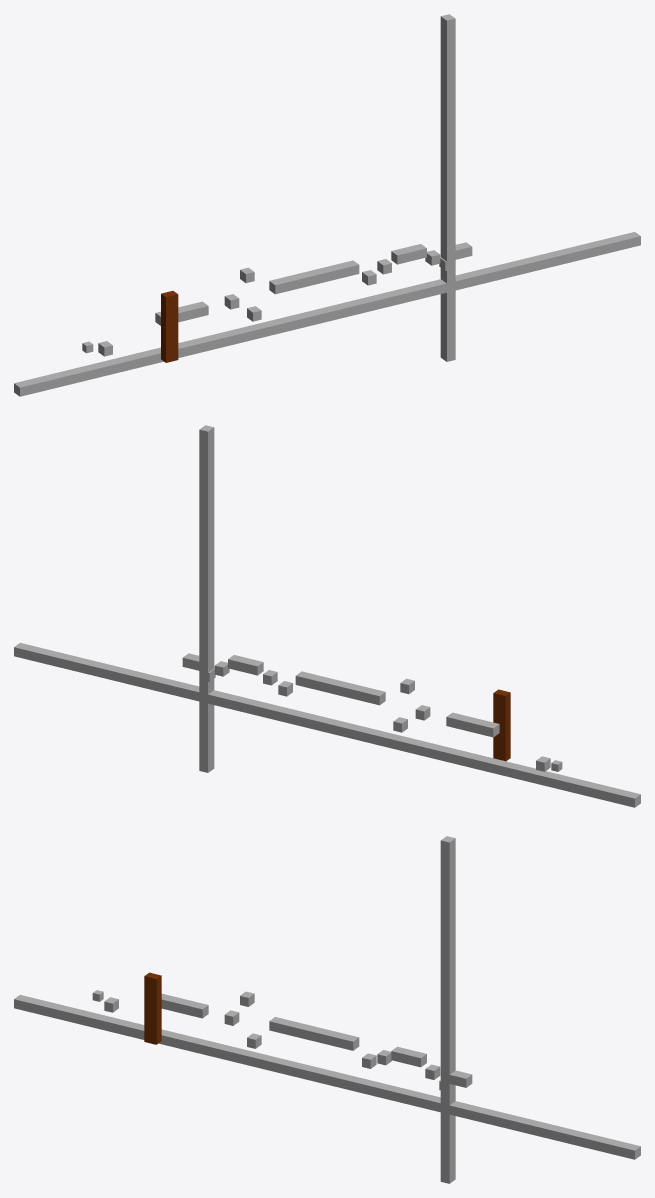
Rendered from Level_0.fbx.
3 views of the same model, one above another, from view 1: azimuth 30°, elevation 25°; view 2: azimuth 150°, elevation 25°; view 3: azimuth 330°, elevation 25° (orthographic).
Parts seen in each view (by area): view 1: Box33, Box32, GC_SM_Cube31; view 2: Box33, Box32, GC_SM_Cube31; view 3: Box33, Box32, GC_SM_Cube31.
Part boxes in pixels (box(x1,y1,x2,y2)): Box33: box(14, 232, 640, 396); Box32: box(440, 14, 455, 361); GC_SM_Cube31: box(161, 291, 178, 362); Box33: box(14, 643, 640, 807); Box32: box(199, 425, 214, 772); GC_SM_Cube31: box(493, 689, 510, 761); Box33: box(14, 995, 640, 1159); Box32: box(440, 836, 455, 1183); GC_SM_Cube31: box(144, 972, 161, 1044).
Size of what is drawn, in the model's own units: 8900 by 450 by 4675.
